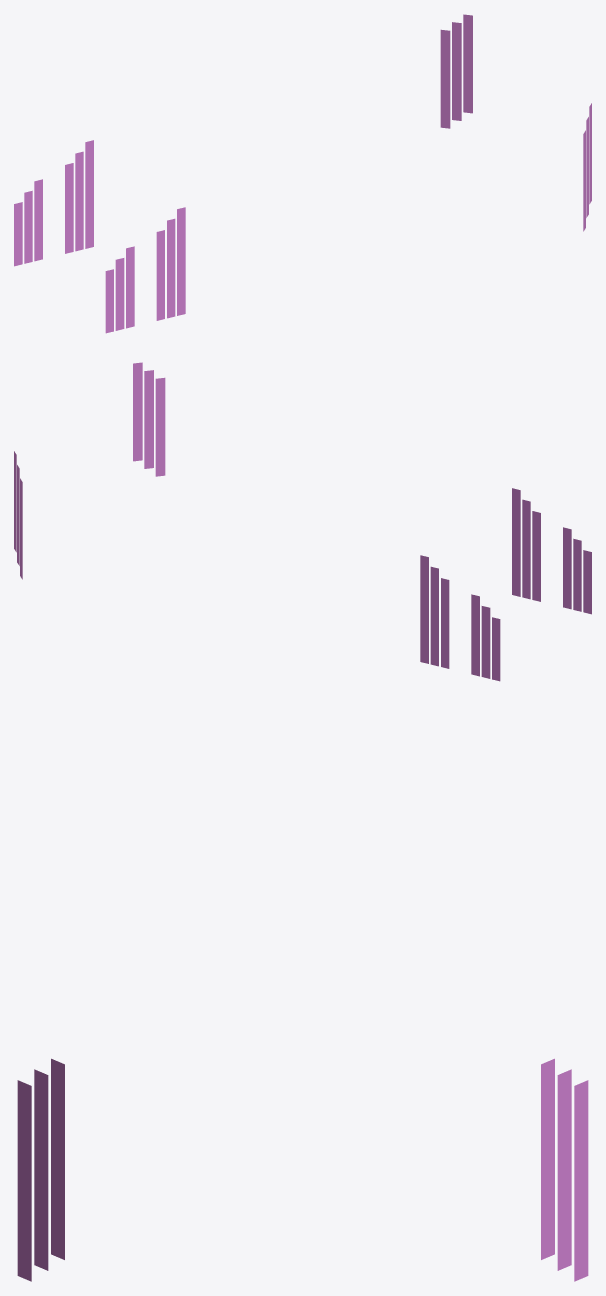
Rendered from blind_02.FBX.
3 renders of one model, top to bottom at view 1: azimuth 30°, elevation 25°; view 2: azimuth 150°, elevation 25°; view 3: azimuth 270°, elevation 25°, orthographic. The views are drawn at different scales.
Parts seen in each view (by area): view 1: Object025; view 2: Object025; view 3: Object025.
Boxes of the visible parts, x1,y1,x2,y2 form: Object025: [14, 14, 591, 333]; Object025: [14, 362, 591, 681]; Object025: [17, 1058, 588, 1281].
Size of the model in its own units: 11113 by 5809 by 2820.
